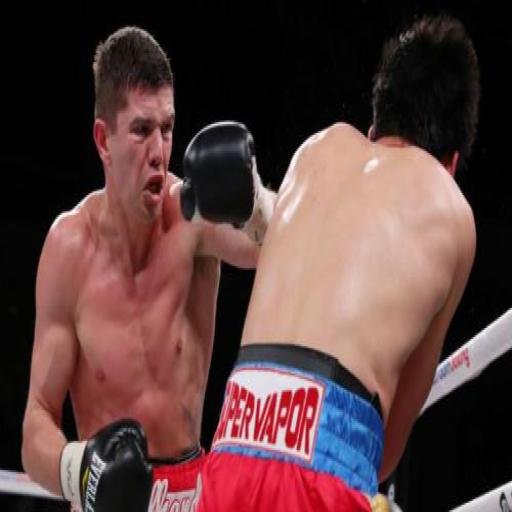boxing: (12, 23, 285, 494)
